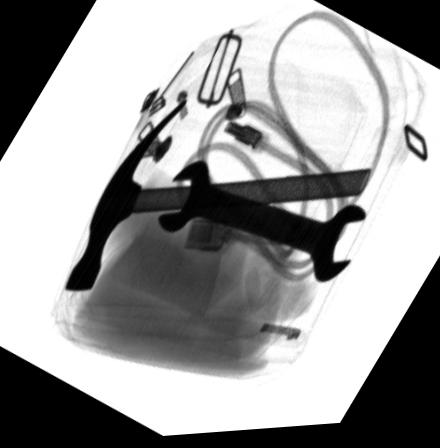Hammer: (62, 97, 370, 293)
Wrench: (155, 159, 367, 287)
